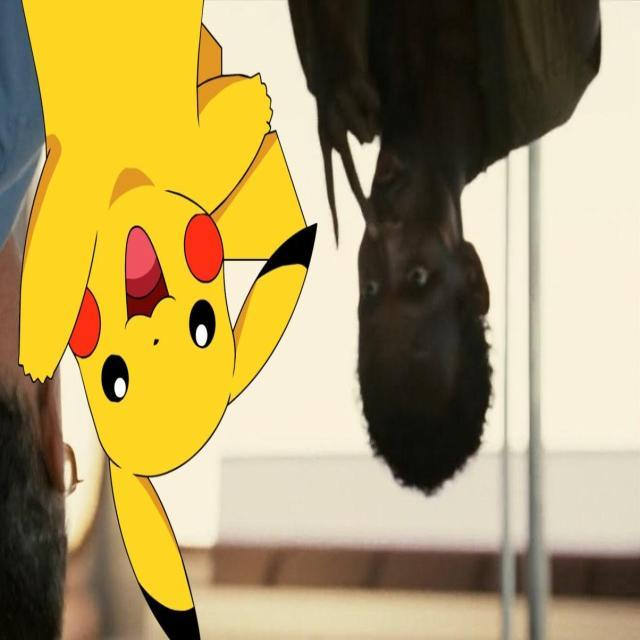Pikachu: (0, 2, 326, 637)
